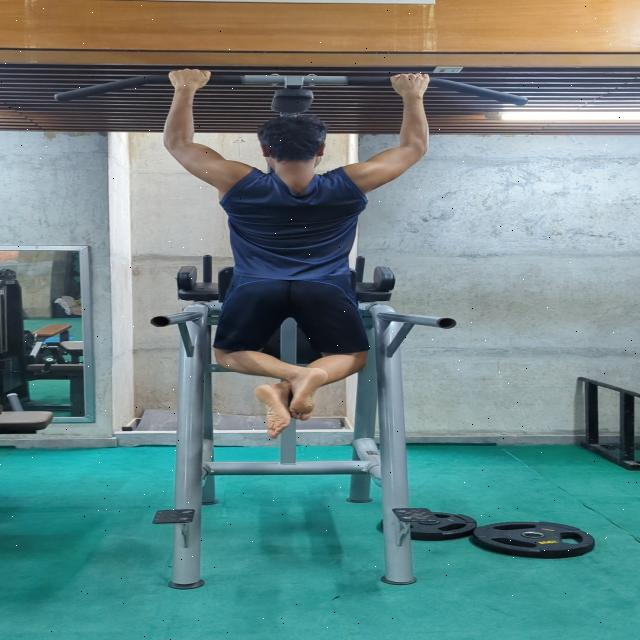Normal_PullUps: (162, 68, 433, 440)
